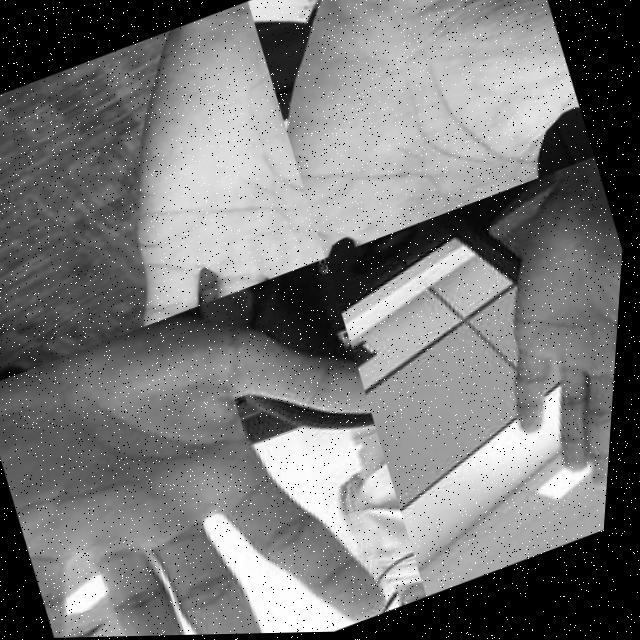no-gloves: (0, 257, 452, 640), (41, 0, 341, 333), (239, 0, 605, 261), (445, 181, 630, 521)
